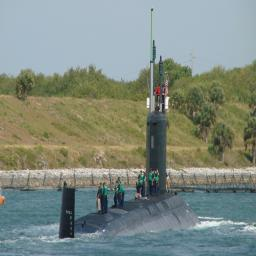submarine: (60, 7, 203, 240)
